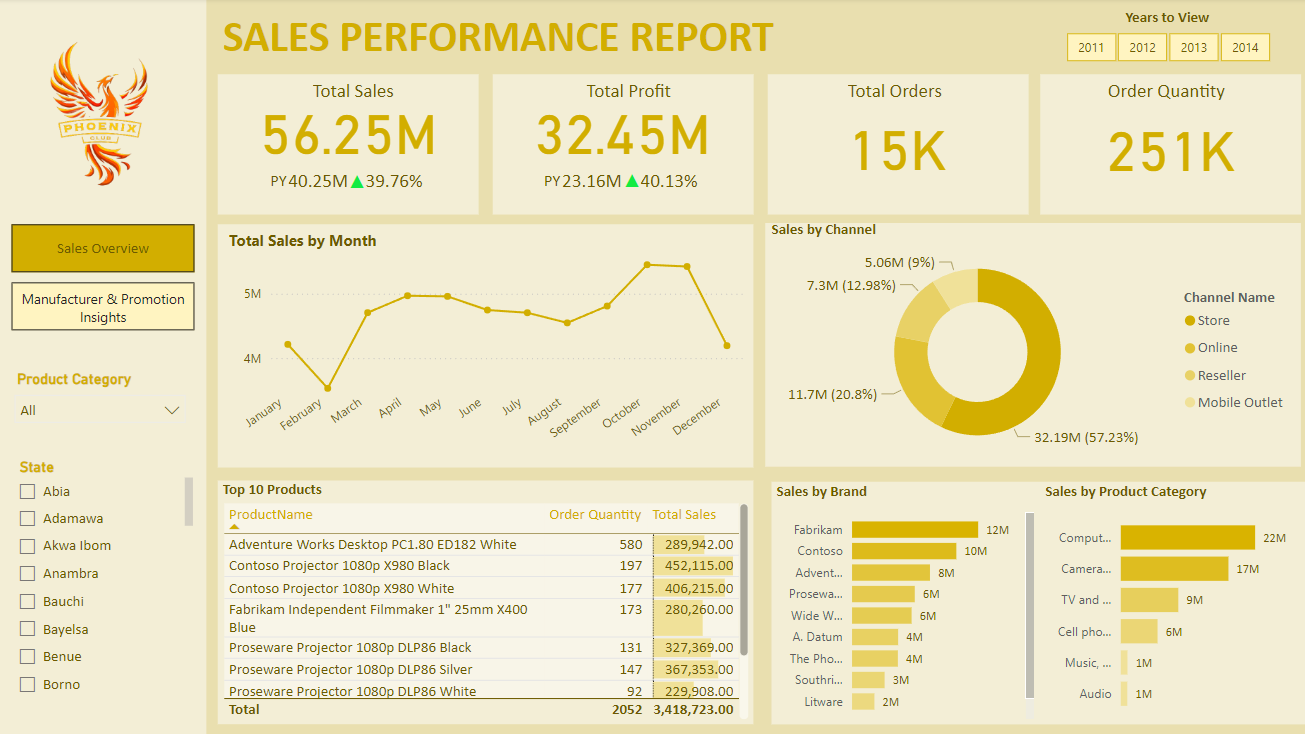

What the dashboard file says about the page in this screenshot:
{"tool":"powerbi","page":{"name":"Sales Overview","canvas":[1280,720],"ordinal":0},"visuals":[{"type":"shape","box":[0,0,202.9,720],"z":0},{"type":"image","box":[7.5,5.8,181.7,213.3],"z":1000},{"type":"textbox","box":[214,6.1,722.7,62.4],"z":2000},{"type":"shape","box":[482.5,75.2,255.2,137.2],"z":3000},{"type":"card","fields":{"Values":["Measures_Table.Total Profit Assumption"]},"box":[516.8,91.6,186.6,70],"z":4000},{"type":"textbox","box":[569.8,74.6,134.5,34.2],"z":5000},{"type":"card","fields":{"Values":["Measures_Table.Profit YOY%"]},"box":[619.4,161.4,71.4,37.1],"z":6000},{"type":"card","fields":{"Values":["Measures_Table.Sales Icon"]},"box":[596.4,161.6,45.3,37],"z":7000},{"type":"card","fields":{"Values":["Measures_Table.Previous Year Profit"]},"box":[542.3,161.4,77.1,37.1],"z":8000},{"type":"textbox","box":[528.5,164.2,34.7,32],"z":9000},{"type":"shape","box":[752,75,255.2,137.2],"z":10000},{"type":"card","fields":{"Values":["Measures_Table.Total Order Quantity"]},"box":[785.7,107.6,187.5,70],"z":11000},{"type":"textbox","box":[825.4,74.6,165.1,34.2],"z":12000},{"type":"shape","box":[214,75.1,255.2,137.2],"z":13000},{"type":"card","fields":{"Values":["Measures_Table.Total Sales Assumption"]},"box":[248.3,91.6,186.6,70],"z":14000},{"type":"textbox","box":[302,74.6,154.1,34.2],"z":15000},{"type":"card","fields":{"Values":["Measures_Table.Sales YOY%"]},"box":[350.9,161.3,71.4,37.1],"z":16000},{"type":"card","fields":{"Values":["Measures_Table.Previous Year Sales"]},"box":[273.7,161.3,77.1,37.1],"z":17000},{"type":"textbox","box":[260,164.1,34.7,32],"z":18000},{"type":"shape","box":[1018.9,74,255.2,137.2],"z":19000},{"type":"card","fields":{"Values":["Measures_Table.Total Order Quantity"]},"box":[1052.9,108.9,187.5,70],"z":20000},{"type":"textbox","box":[1079.8,74.6,187.1,35.5],"z":21000},{"type":"shape","box":[214.3,221.4,524.3,238],"z":22000},{"type":"shape","box":[214.3,471.4,524.3,238.6],"z":23000},{"type":"shape","box":[750,220,524.3,238.6],"z":24000},{"type":"shape","box":[749.6,473.2,524.6,237.2],"z":25000},{"type":"lineChart","fields":{"Y":["Measures_Table.Total Sales Assumption"],"Category":["Sales_Data.Order Date.Variation.Date Hierarchy.Year1","Sales_Data.Order Date.Variation.Date Hierarchy.Month","Sales_Data.Order Date.Variation.Date Hierarchy.Day"]},"box":[220,225.7,512.9,227.1],"z":26000},{"type":"tableEx","title":"Top 10 Products","fields":{"Values":["Sales_Product.ProductName","Measures_Table.Total Order Quantity","Measures_Table.Total Sales Assumption"]},"box":[214.1,472,524.2,238.8],"z":27000},{"type":"donutChart","title":"Sales by Channel","fields":{"Y":["Measures_Table.Total Sales Assumption"],"Category":["Sales_Channel.ChannelName"]},"box":[750.6,218.2,524.2,240.1],"z":28000},{"type":"clusteredBarChart","title":"Sales by Brand","fields":{"Y":["Measures_Table.Total Sales Assumption"],"Category":["Sales_Product.BrandName"]},"box":[756.9,473.2,233.6,237.2],"z":29000},{"type":"clusteredBarChart","title":"Sales by Product Category","fields":{"Y":["Measures_Table.Total Sales Assumption"],"Category":["Sales_Product_Sub_Cat.Product Category"]},"box":[1018.6,473.2,261.7,237.2],"z":30000},{"type":"card","fields":{"Values":["Measures_Table.Sales Icon"]},"box":[327.7,161.5,45.4,37.7],"z":31000},{"type":"slicer","title":"Years to View","fields":{"Values":["Sales_Data.Order Date.Variation.Date Hierarchy.Year"]},"box":[1018.8,10,248.8,58.8],"z":32000},{"type":"slicer","fields":{"Values":["Sales_Product_Sub_Cat.Product Category"]},"box":[5,360,187.5,75],"z":33000},{"type":"slicer","fields":{"Values":["Sales_State.State"]},"box":[7.5,445,187.5,247.5],"z":34000},{"type":"pageNavigator","box":[12.2,221.3,179.8,105.2],"z":35000}]}

Visuals, with their boxes in screenshot pixels (x1, y1, x2, y2), scaled from the page's 1280x720 canvas onto the 1305x734 screenshot:
shape: <bbox>0, 0, 207, 733</bbox>
image: <bbox>8, 6, 193, 223</bbox>
textbox: <bbox>218, 6, 955, 70</bbox>
shape: <bbox>492, 77, 752, 217</bbox>
card - Measures_Table.Total Profit Assumption: <bbox>527, 93, 717, 165</bbox>
textbox: <bbox>581, 76, 718, 111</bbox>
card - Measures_Table.Profit YOY%: <bbox>631, 165, 704, 202</bbox>
card - Measures_Table.Sales Icon: <bbox>608, 165, 654, 202</bbox>
card - Measures_Table.Previous Year Profit: <bbox>553, 165, 631, 202</bbox>
textbox: <bbox>539, 167, 574, 200</bbox>
shape: <bbox>767, 76, 1027, 216</bbox>
card - Measures_Table.Total Order Quantity: <bbox>801, 110, 992, 181</bbox>
textbox: <bbox>842, 76, 1010, 111</bbox>
shape: <bbox>218, 77, 478, 216</bbox>
card - Measures_Table.Total Sales Assumption: <bbox>253, 93, 443, 165</bbox>
textbox: <bbox>308, 76, 465, 111</bbox>
card - Measures_Table.Sales YOY%: <bbox>358, 164, 431, 202</bbox>
card - Measures_Table.Previous Year Sales: <bbox>279, 164, 358, 202</bbox>
textbox: <bbox>265, 167, 300, 200</bbox>
shape: <bbox>1039, 75, 1299, 215</bbox>
card - Measures_Table.Total Order Quantity: <bbox>1073, 111, 1265, 182</bbox>
textbox: <bbox>1101, 76, 1292, 112</bbox>
shape: <bbox>218, 226, 753, 468</bbox>
shape: <bbox>218, 481, 753, 724</bbox>
shape: <bbox>765, 224, 1299, 468</bbox>
shape: <bbox>764, 482, 1299, 724</bbox>
lineChart - Measures_Table.Total Sales Assumption x Sales_Data.Order Date.Variation.Date Hierarchy.Year1: <bbox>224, 230, 747, 462</bbox>
"Top 10 Products" tableEx: <bbox>218, 481, 753, 725</bbox>
"Sales by Channel" donutChart: <bbox>765, 222, 1300, 467</bbox>
"Sales by Brand" clusteredBarChart: <bbox>772, 482, 1010, 724</bbox>
"Sales by Product Category" clusteredBarChart: <bbox>1038, 482, 1304, 724</bbox>
card - Measures_Table.Sales Icon: <bbox>334, 165, 380, 203</bbox>
"Years to View" slicer: <bbox>1039, 10, 1292, 70</bbox>
slicer - Sales_Product_Sub_Cat.Product Category: <bbox>5, 367, 196, 443</bbox>
slicer - Sales_State.State: <bbox>8, 454, 199, 706</bbox>
pageNavigator: <bbox>12, 226, 196, 333</bbox>
